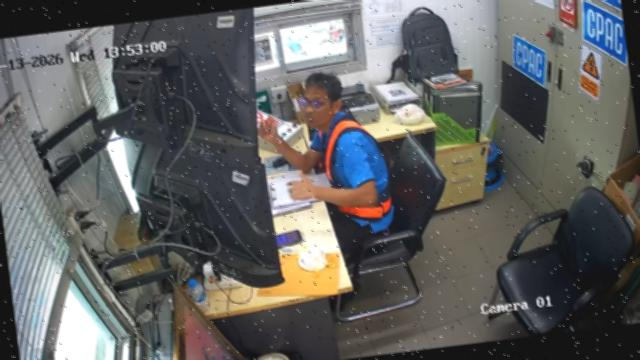Head: (299, 72, 344, 127)
People: (257, 73, 395, 258)
Phone: (276, 231, 303, 247)
